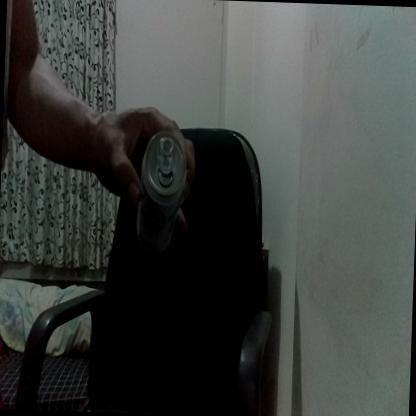alumunium_can: (137, 121, 186, 252)
